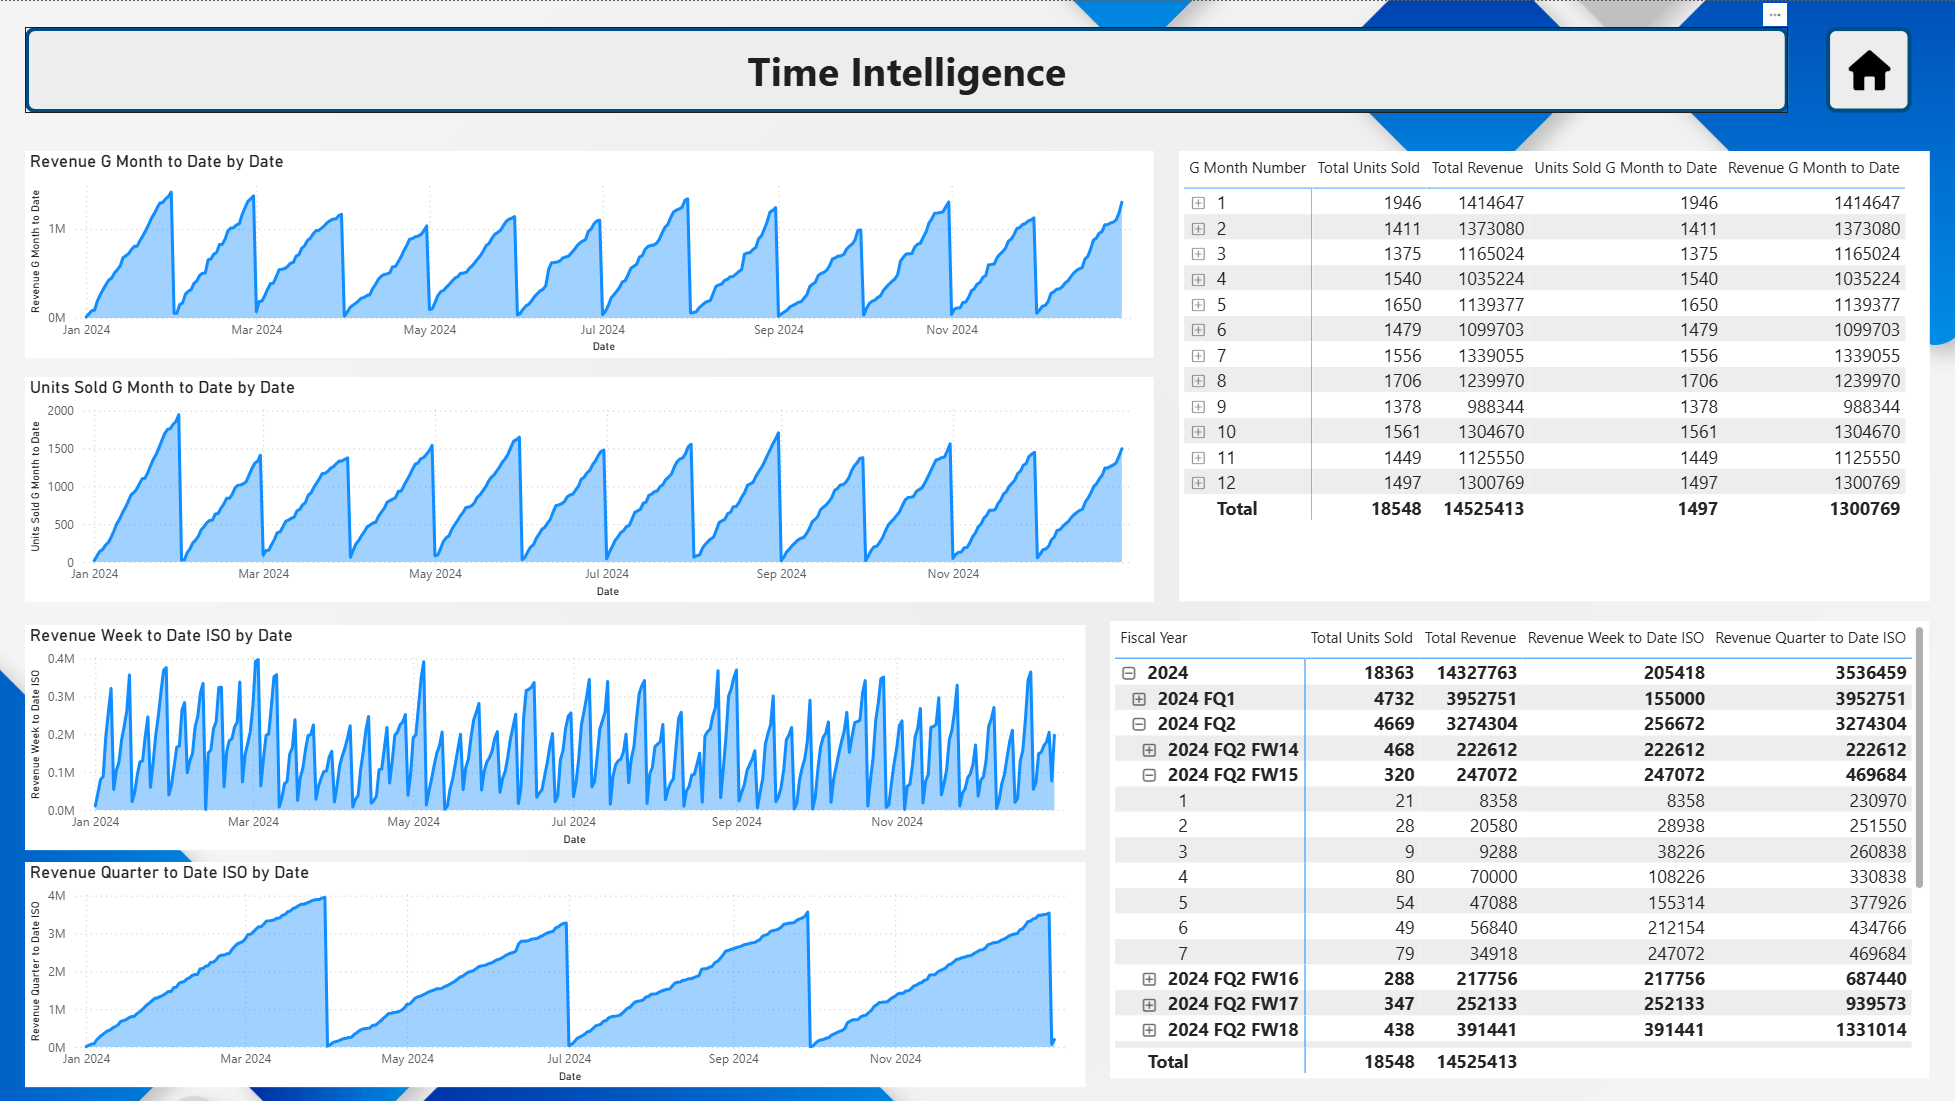

Layout of this report page (visuals, bound fields, positions):
{"tool":"powerbi","page":{"name":"Time Intelligence","canvas":[1920,1080],"ordinal":4},"visuals":[{"type":"shape","box":[24.1,25.2,1731.4,84.4],"z":0},{"type":"image","box":[1792.8,25.2,84.4,84.4],"z":1000},{"type":"areaChart","fields":{"Y":["Mobile_Sales.Revenue G Month to Date ISO"],"Category":["Date_Dim.Date"]},"box":[24.2,147.1,1107.7,202.8],"z":2000},{"type":"pivotTable","fields":{"Rows":["Date_Dim.G Month Number","Date_Dim.G Day Number"],"Values":["Mobile_Sales.Total Units Sold","Mobile_Sales.Total Revenue","Mobile_Sales.Units Sold G Month to Date ISO","Mobile_Sales.Revenue G Month to Date ISO"]},"box":[1157,147.1,736.7,442.4],"z":3000},{"type":"pivotTable","fields":{"Rows":["Date_Dim.Fiscal Year","Date_Dim.Fiscal Year Quarter","Date_Dim.Fiscal Year Quarter Week","Date_Dim.Day of Week"],"Values":["Mobile_Sales.Total Units Sold","Mobile_Sales.Total Revenue","Mobile_Sales.Revenue Week to Date ISO","Mobile_Sales.Revenue Quarter to Date ISO"]},"box":[1089.8,608.5,803.9,448.7],"z":4000},{"type":"areaChart","fields":{"Category":["Date_Dim.Date"],"Y":["Mobile_Sales.Units Sold G Month to Date"]},"box":[24.2,368.9,1107.7,220.7],"z":5000},{"type":"areaChart","fields":{"Category":["Date_Dim.Date"],"Y":["Mobile_Sales.Revenue Week to Date ISO"]},"box":[24.2,612.7,1041.4,220.7],"z":6000},{"type":"areaChart","fields":{"Category":["Date_Dim.Date"],"Y":["Mobile_Sales.Revenue Quarter to Date ISO"]},"box":[24.2,844.9,1041.4,220.7],"z":7000}]}

Visuals, with their boxes in screenshot pixels (x1, y1, x2, y2), scaled from the page's 1920x1080 canvas onto the 1955x1101 screenshot:
shape: (25, 26, 1788, 112)
image: (1825, 26, 1911, 112)
areaChart - Mobile_Sales.Revenue G Month to Date ISO x Date_Dim.Date: (25, 150, 1153, 357)
pivotTable - Date_Dim.G Month Number x Date_Dim.G Day Number: (1178, 150, 1928, 601)
pivotTable - Date_Dim.Fiscal Year x Date_Dim.Fiscal Year Quarter: (1110, 620, 1928, 1078)
areaChart - Date_Dim.Date x Mobile_Sales.Units Sold G Month to Date: (25, 376, 1153, 601)
areaChart - Date_Dim.Date x Mobile_Sales.Revenue Week to Date ISO: (25, 625, 1085, 850)
areaChart - Date_Dim.Date x Mobile_Sales.Revenue Quarter to Date ISO: (25, 861, 1085, 1086)
